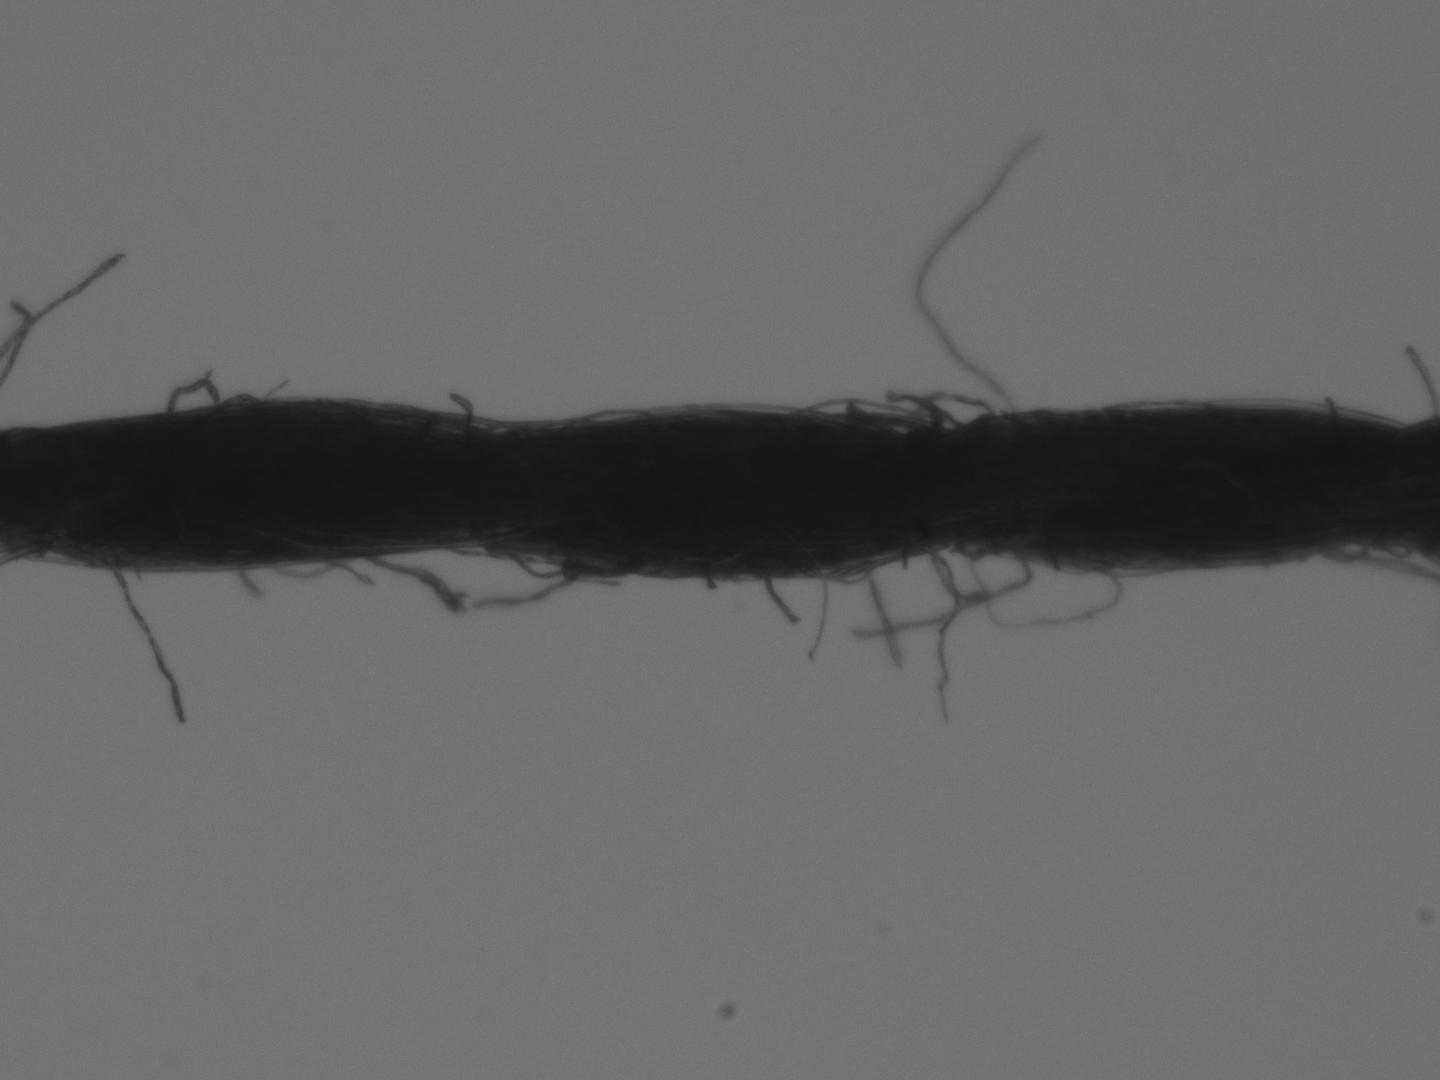loop_fiber: (794, 394, 938, 431), (932, 541, 1022, 600), (499, 548, 636, 579), (798, 549, 898, 589), (914, 390, 983, 431), (159, 376, 221, 415), (265, 557, 345, 584), (567, 403, 641, 425), (1312, 541, 1362, 563), (222, 393, 255, 403)
protruding_fiber: (914, 135, 1041, 414), (103, 562, 190, 728), (754, 576, 799, 624), (446, 387, 473, 434)
